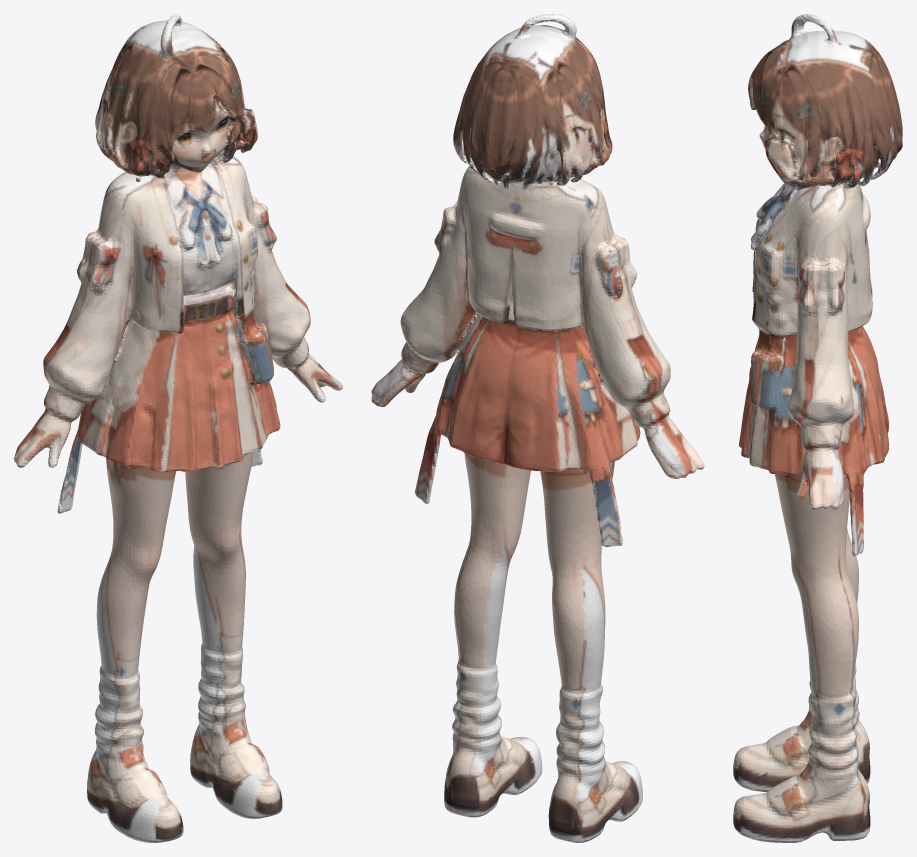
File: joi-generated-v1.glb
3 views of the same model, side by side, from view 1: azimuth 30°, elevation 25°; view 2: azimuth 150°, elevation 25°; view 3: azimuth 270°, elevation 25° (orthographic).
Visible parts, largest first — view 1: geometry_0; view 2: geometry_0; view 3: geometry_0.
Boxes of the visible parts, x1,y1,x2,y2 form: geometry_0: (14,14,342,842); geometry_0: (371,14,704,842); geometry_0: (733,14,902,842).
Size of the model in its own units: 0.8507 by 1.97 by 0.3842.
1 material, 1 textured.
